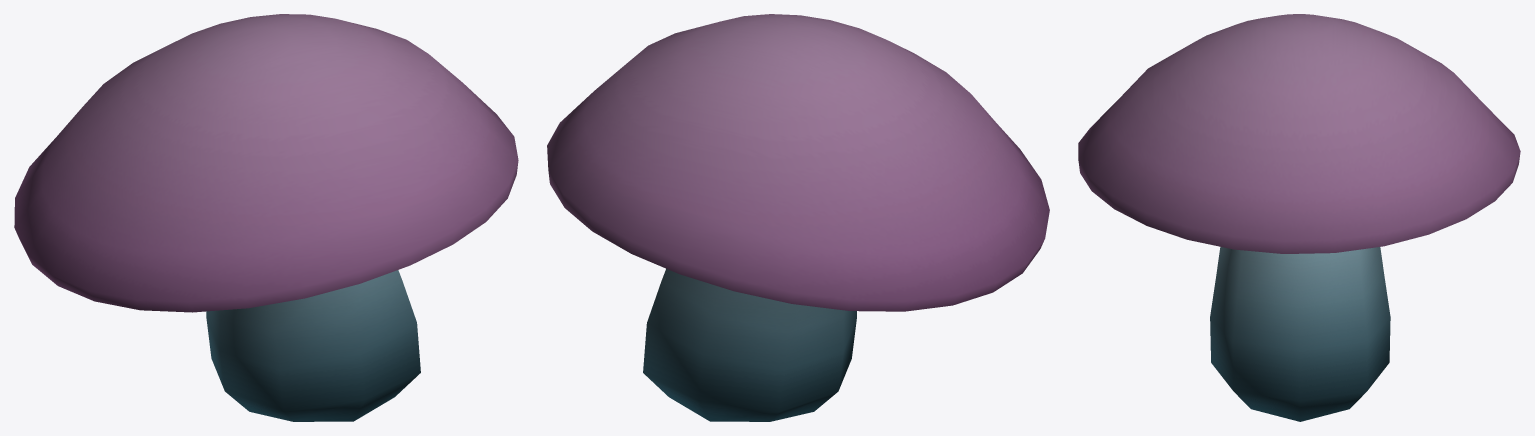
Rendered from SmallMushroom2.FBX.
3 views of the same model, side by side, from view 1: azimuth 30°, elevation 25°; view 2: azimuth 150°, elevation 25°; view 3: azimuth 270°, elevation 25° (orthographic). The views are drawn at different scales.
Visible parts, largest first — view 1: Small Mushroom 2; view 2: Small Mushroom 2; view 3: Small Mushroom 2.
Part boxes in pixels (x1,y1,x2,y2): Small Mushroom 2: (14, 14, 518, 421); Small Mushroom 2: (547, 14, 1049, 421); Small Mushroom 2: (1078, 14, 1520, 421).
Bounding box in the file's own units: 23.02 × 18.35 × 21.56.
Materials: 1 (1 with a texture image).
